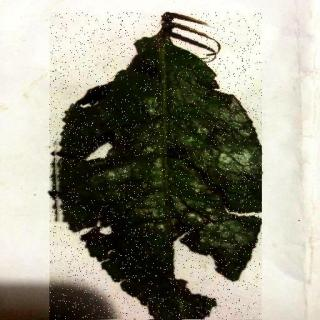Red Leaf Spot: (50, 13, 263, 320)
